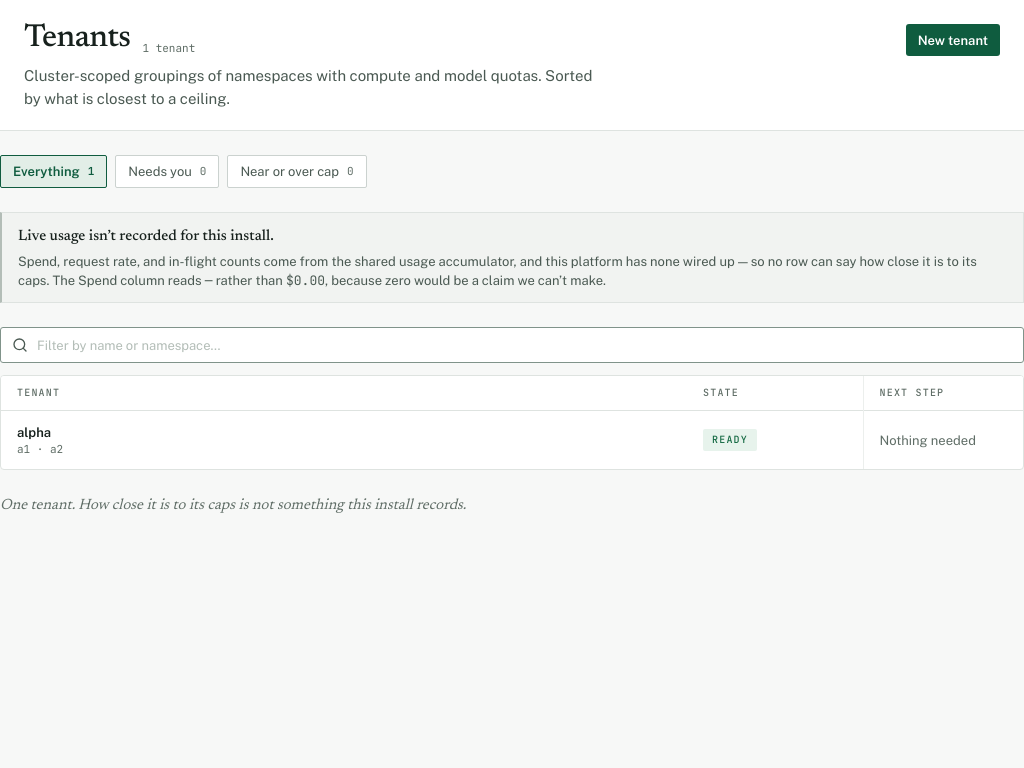
TenantsPage › opens a detail panel (namespaces + model caps) on row click
This screenshot has width=1024, height=768.
Click the text "alpha" at (34, 432), box [1, 410, 1023, 469]
(page scrolled)
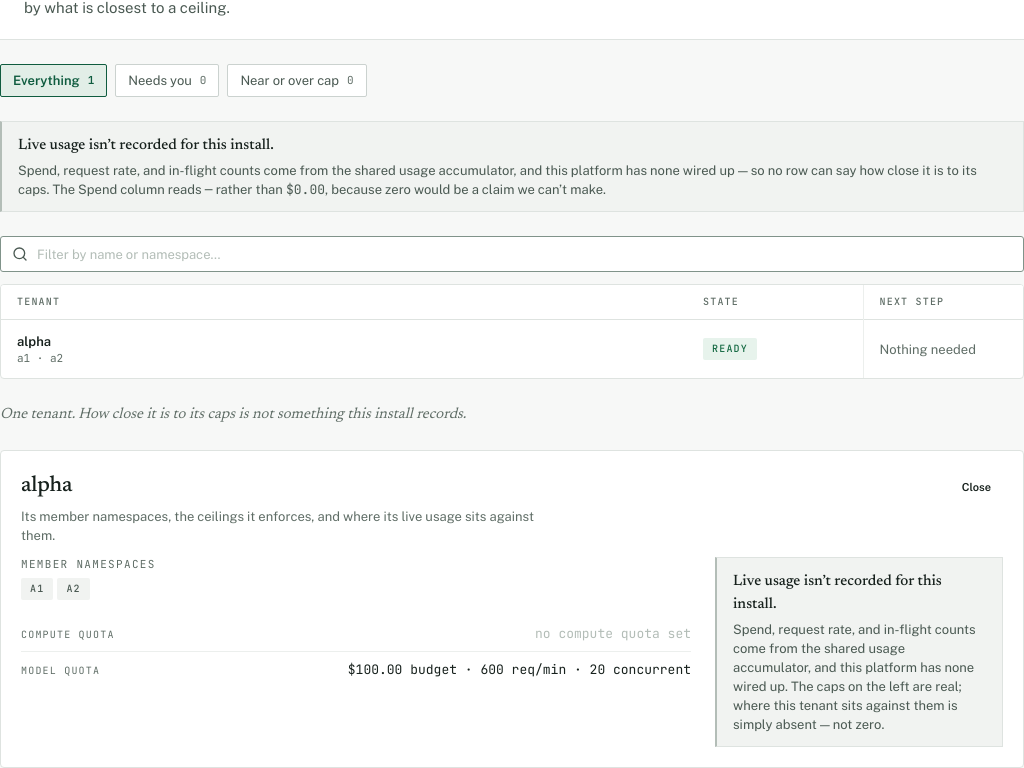
Result: the text "a1" is shown at [21, 578, 53, 600]
Result: the text "$100.00 budget · 600 req/min · 20 concurrent" is shown at [348, 660, 691, 679]
